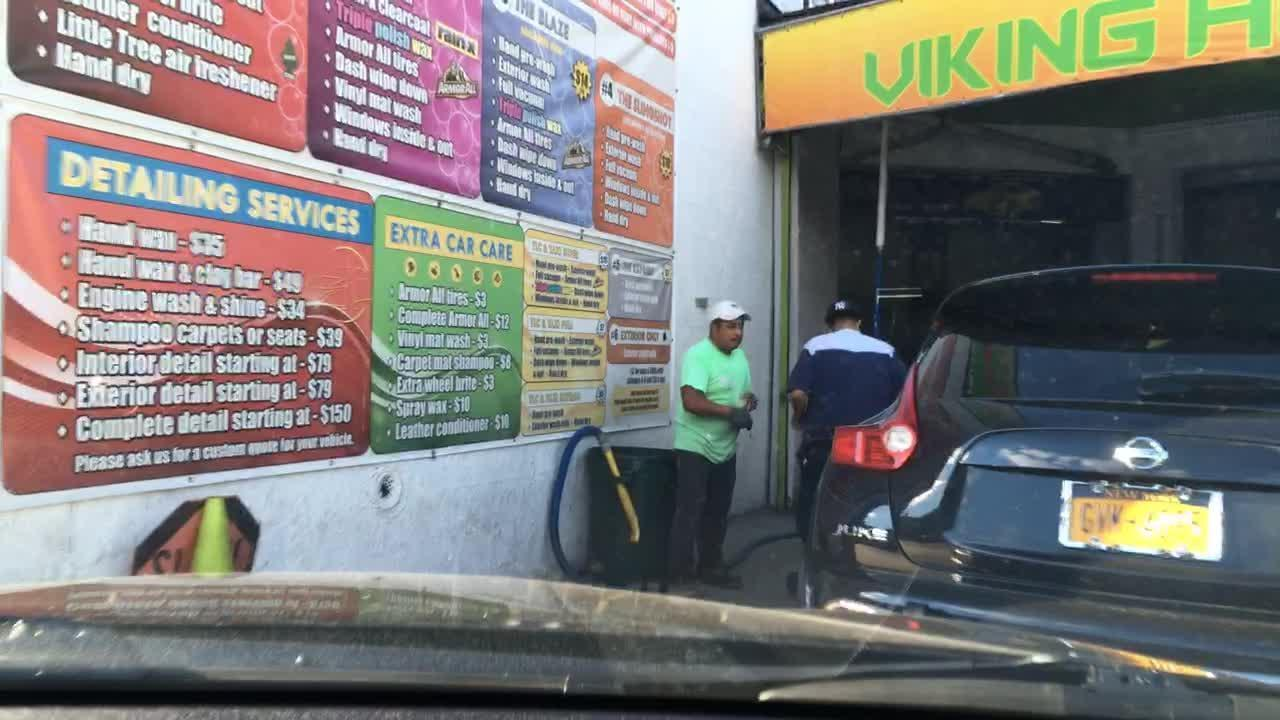Nissan: (1108, 433, 1172, 477)
